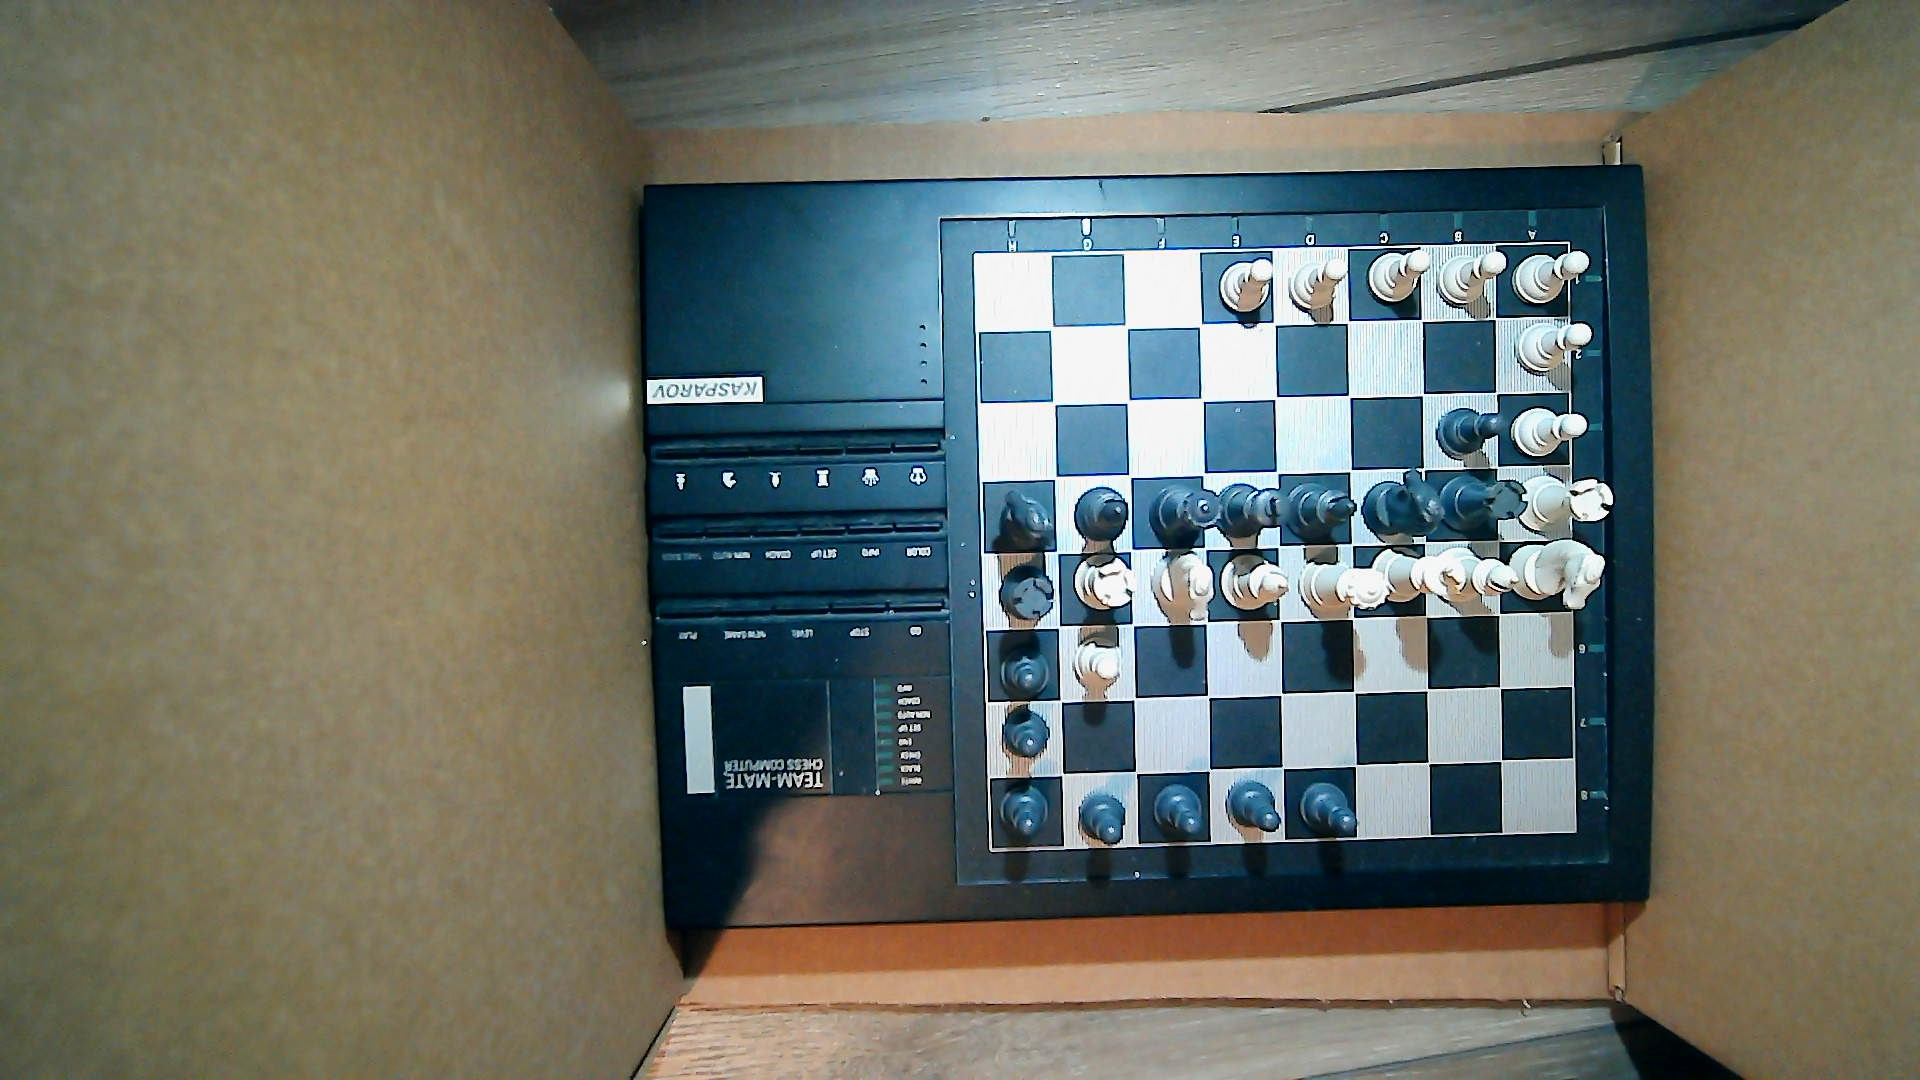bbishop: (1286, 483, 1357, 538), (1071, 487, 1130, 543)
bking: (1216, 483, 1294, 539)
bknight: (1362, 469, 1444, 535), (1000, 488, 1058, 549)
bpawn: (1299, 779, 1362, 840), (1436, 407, 1503, 458), (1225, 781, 1283, 835), (998, 786, 1051, 843), (998, 646, 1054, 698), (1153, 782, 1205, 835), (1076, 793, 1127, 847), (1001, 709, 1054, 760)
bqueen: (1151, 484, 1224, 545)
brook: (1437, 473, 1524, 531), (998, 564, 1055, 622)
wbishop: (1439, 549, 1520, 607), (1221, 556, 1290, 613)
wking: (1375, 545, 1466, 604)
wknight: (1509, 539, 1605, 611), (1150, 553, 1213, 622)
wpawn: (1515, 320, 1596, 378), (1513, 251, 1592, 306), (1436, 251, 1507, 309), (1510, 407, 1589, 458), (1284, 257, 1350, 316), (1365, 249, 1433, 303), (1217, 258, 1273, 314), (1072, 636, 1127, 688)
wqueen: (1298, 560, 1390, 617)
wrook: (1518, 473, 1613, 533), (1073, 553, 1135, 613)
